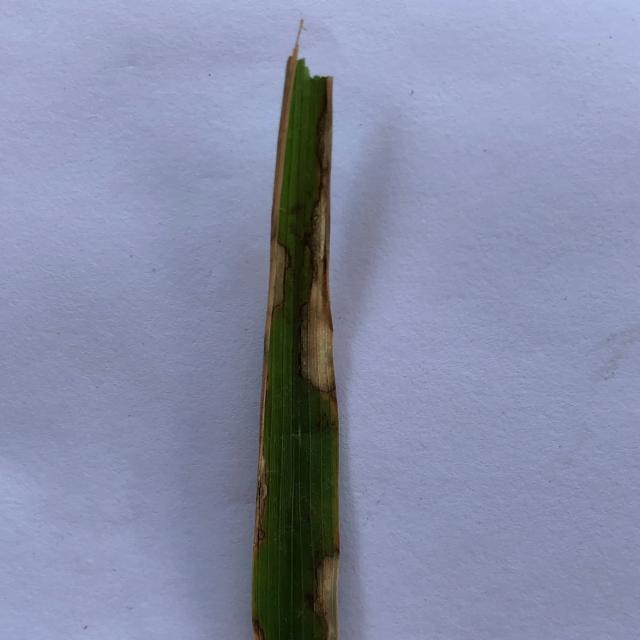leaf blight: (250, 22, 307, 554), (296, 79, 341, 420), (309, 555, 336, 640), (251, 614, 265, 640)
